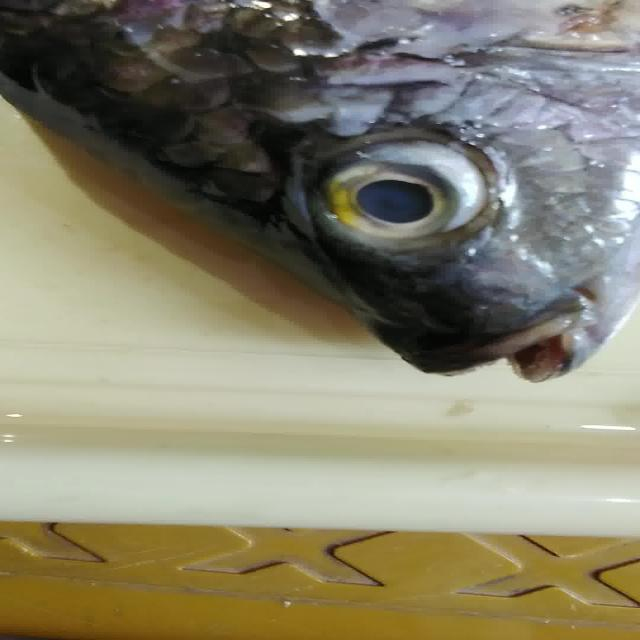Fresh: (298, 116, 552, 264)
